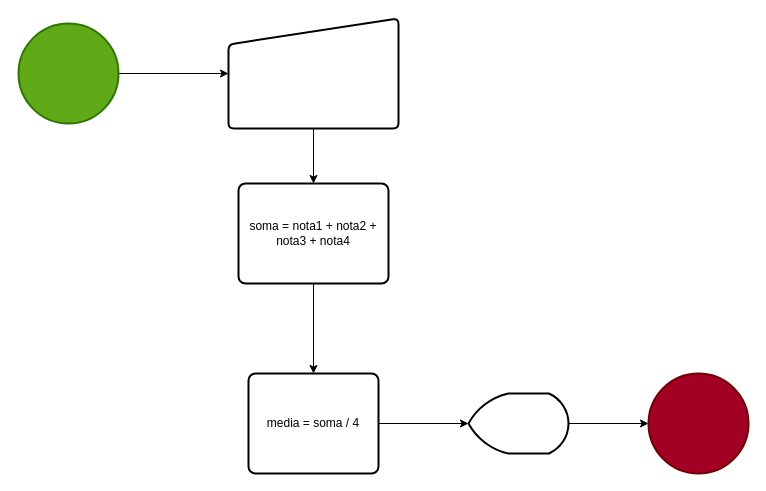
This 766x491 diagram has some shape labels left out. The centre of each missing label's shape, as x and y in pixels:
media: the point at 518,423
nota1 = X nota2 = X nota3 = X nota4 = X: the point at 313,73
